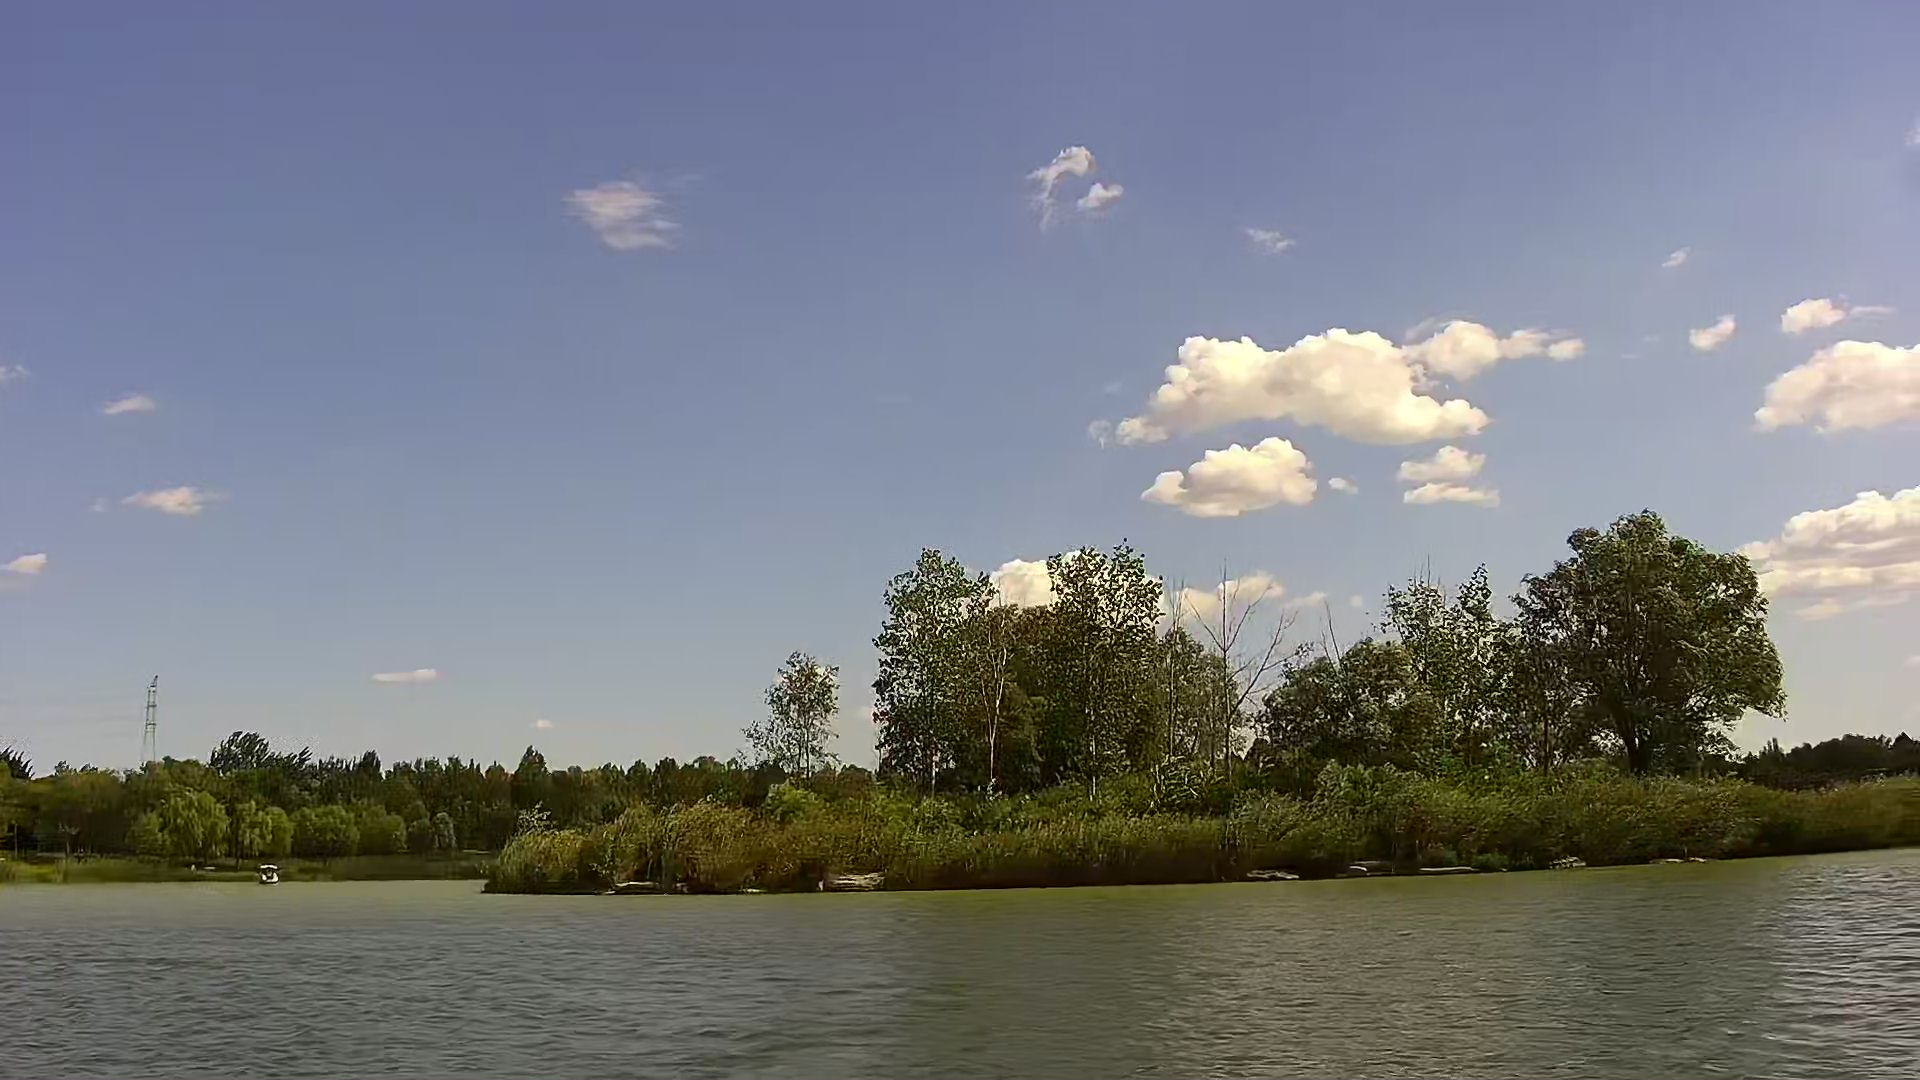rock: (827, 864, 880, 891)
